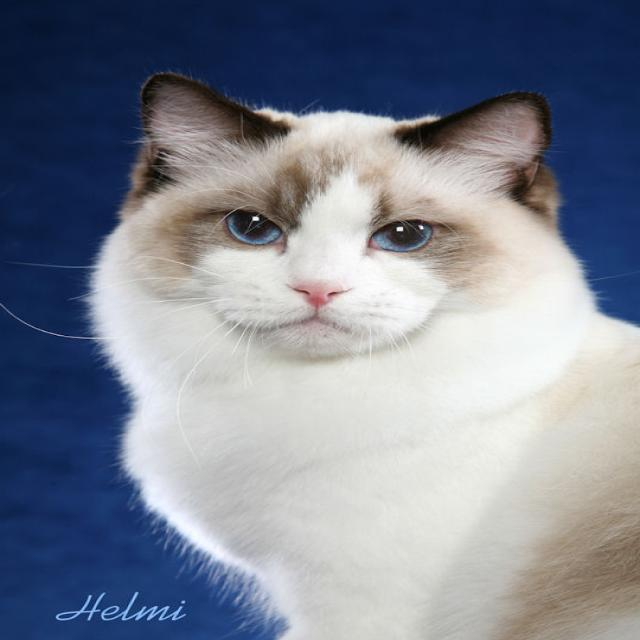Ragdoll: (78, 65, 640, 640)
